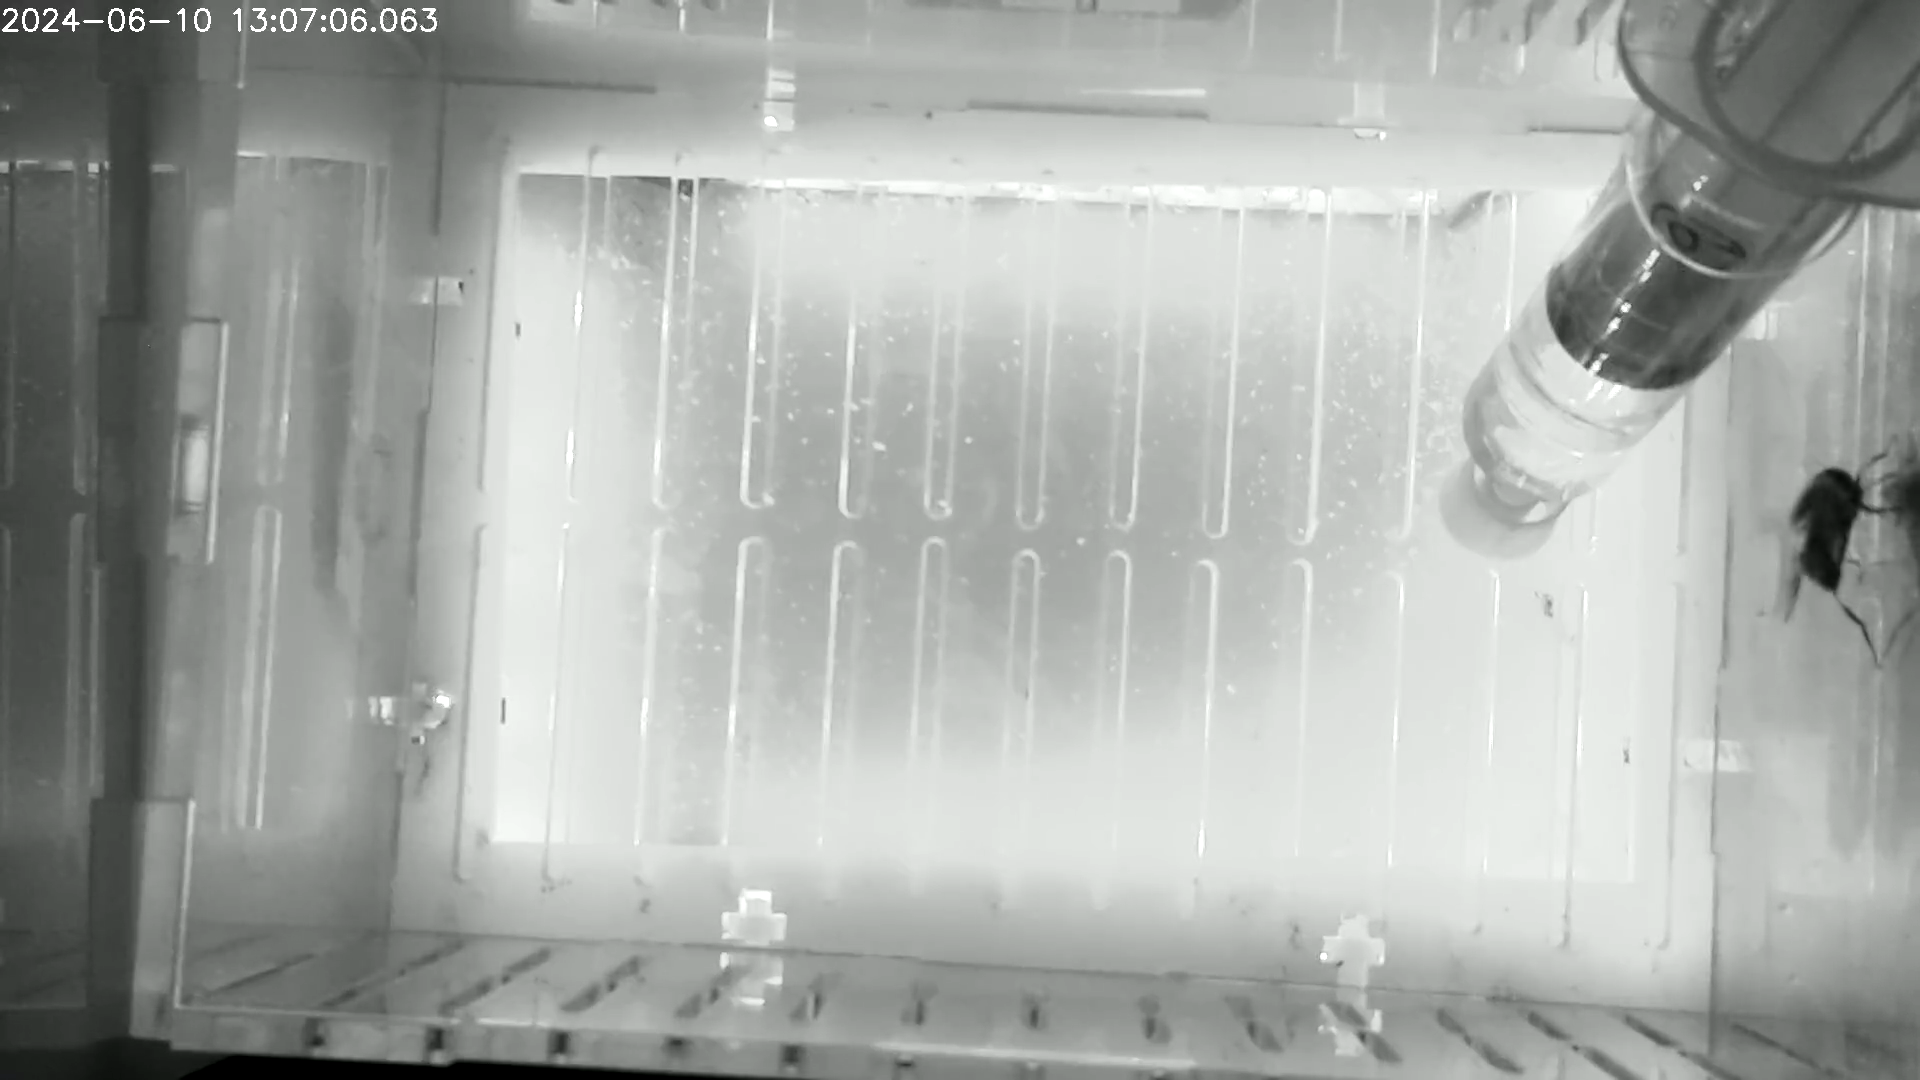bee: (1755, 443, 1920, 676)
feeder: (1452, 133, 1798, 515)
